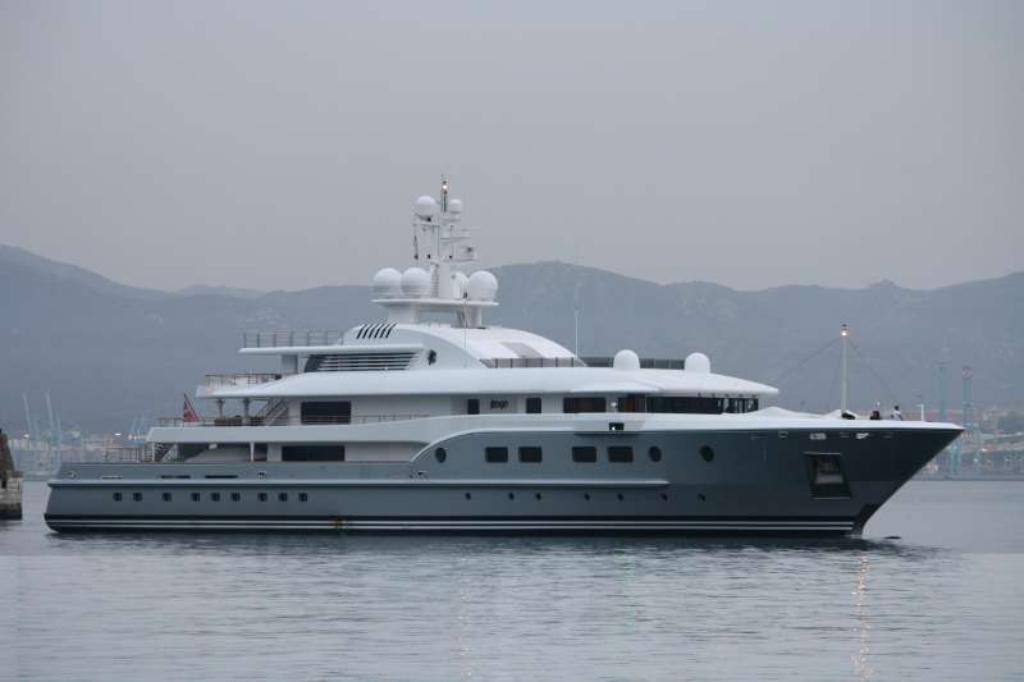PassengerShip: (36, 178, 968, 542)
